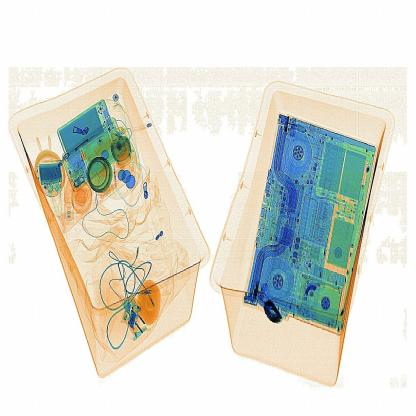scissors: (254, 292, 288, 334)
